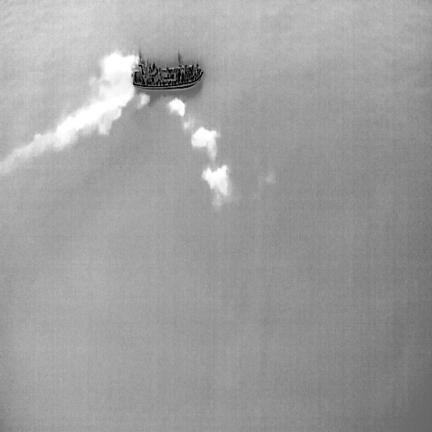flukeprints: (191, 127, 219, 163), (202, 165, 229, 198), (168, 98, 185, 116), (184, 121, 191, 129)
